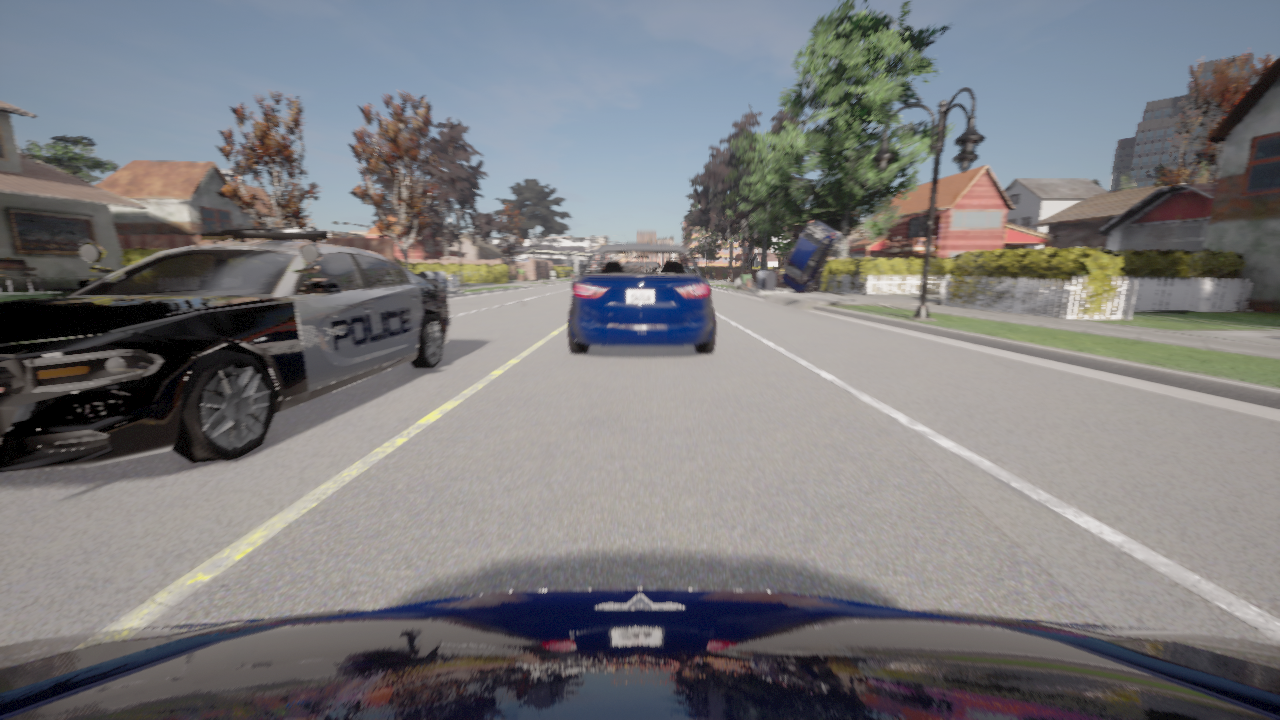cyclist: (0, 588, 1279, 719), (0, 224, 449, 472), (568, 242, 715, 353), (781, 220, 841, 293), (572, 269, 582, 289)
pedestrian: (778, 266, 783, 282)
